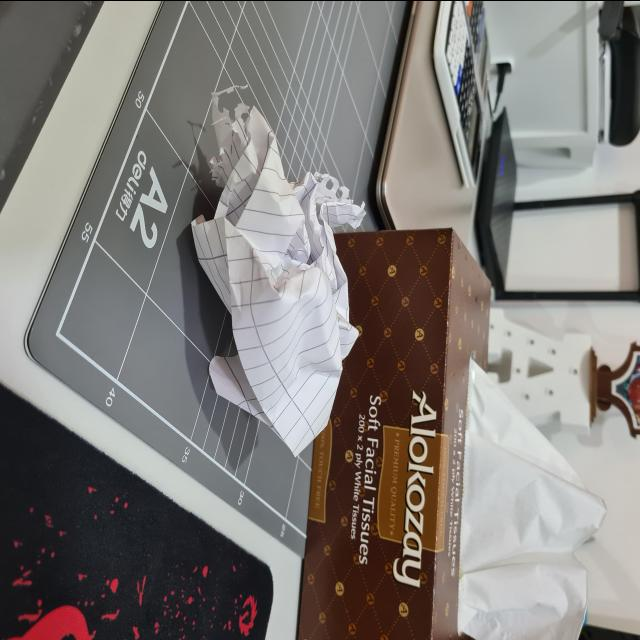kertas: (187, 97, 362, 451)
